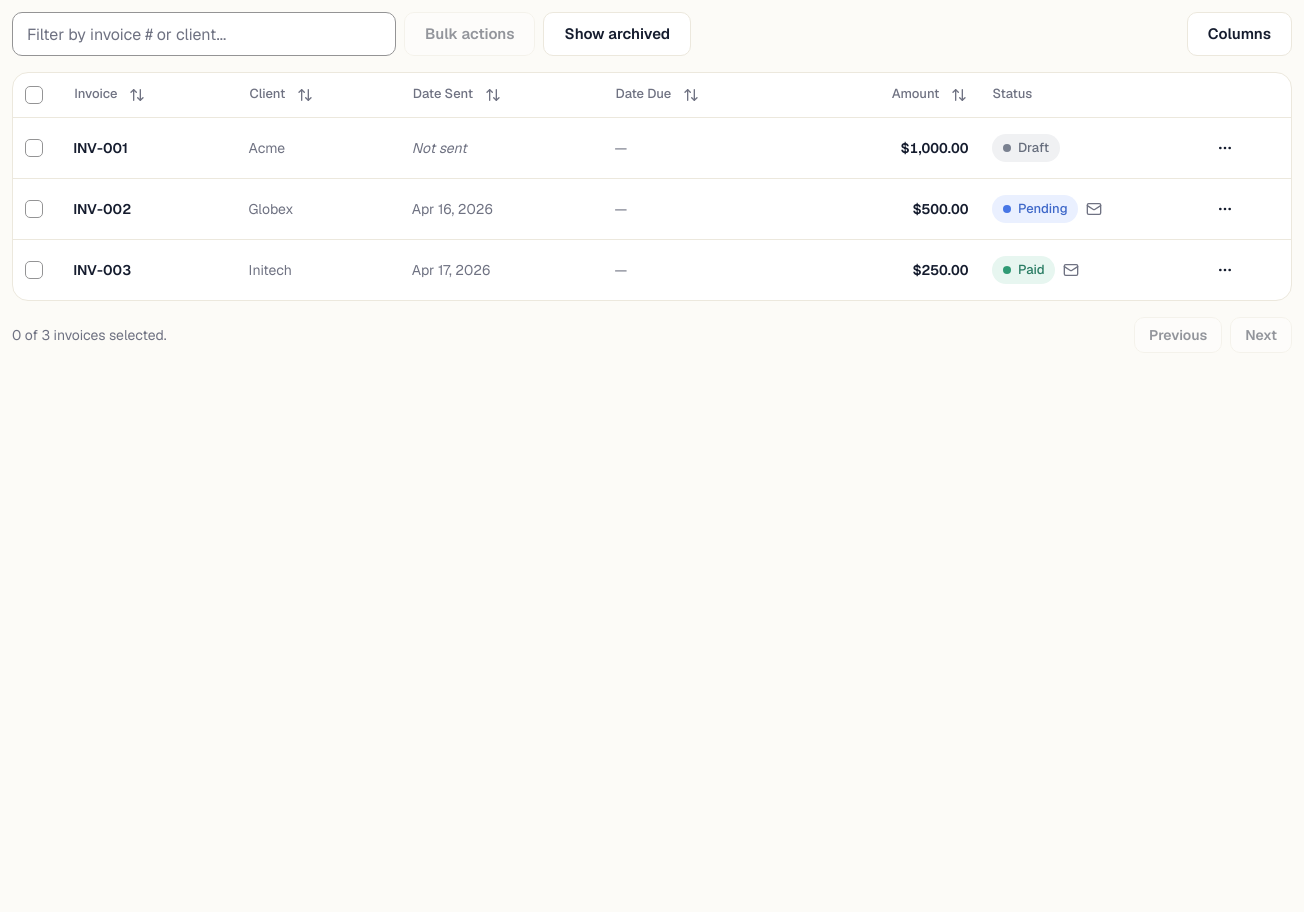
Test case: InvoiceDataTable — per-row actions › warns when a row can't be unarchived because its prior status wasn't recorded
The image size is (1304, 912).
Click the button "Show archived": [617, 34] box [544,12,691,56]
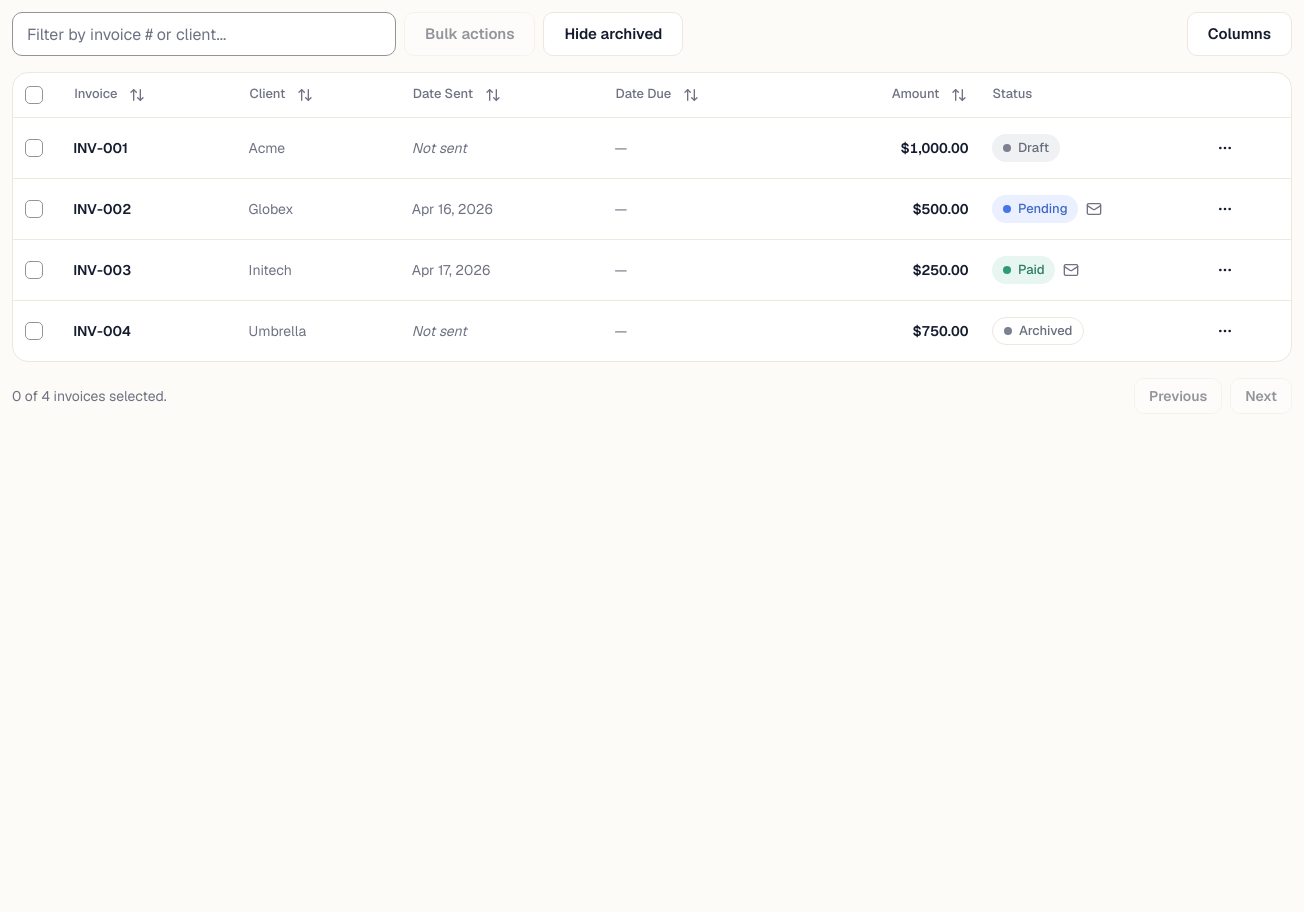
Click the button named "open menu" in the row of "INV-004": [1225, 330] box [1207,312,1243,348]
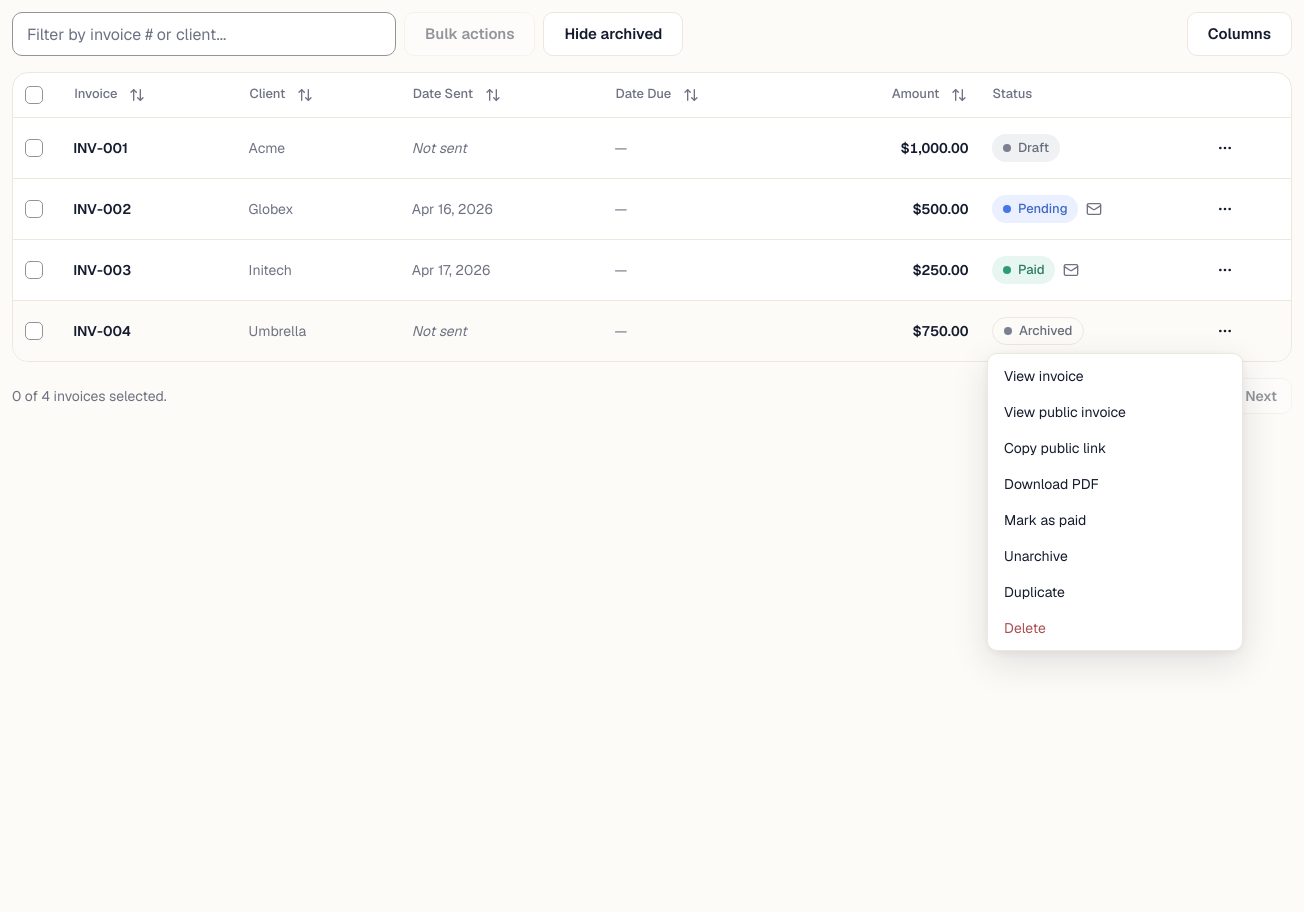
Click the menu item "Unarchive": [1036, 556] box [1004,547,1068,565]
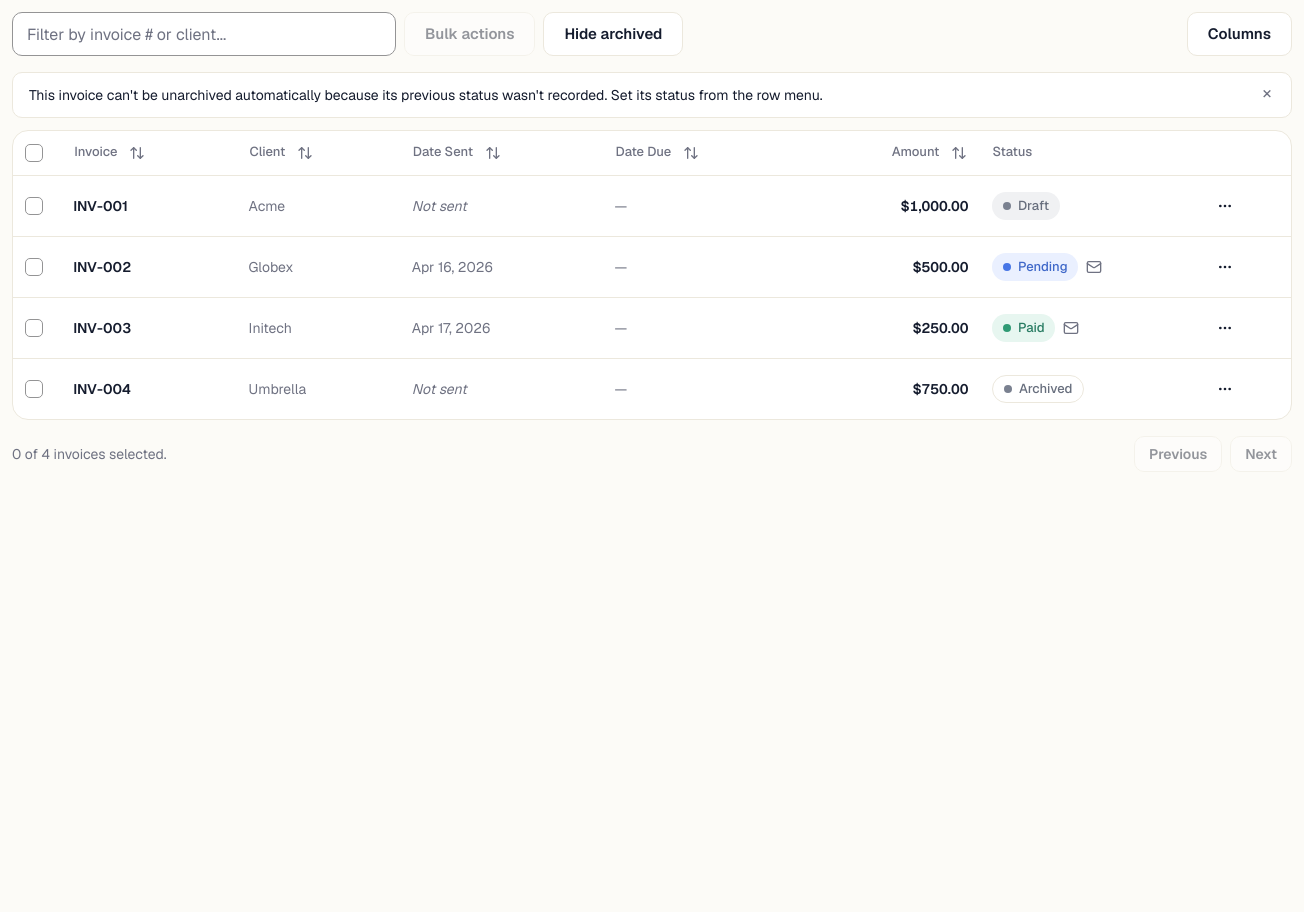
Result: the text "previous status wasn't recorded" is shown at [29,86,823,104]
